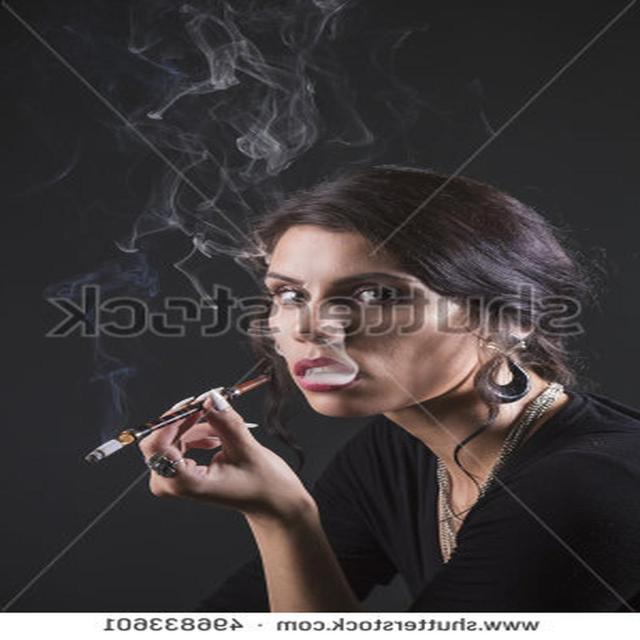smoking: (70, 152, 609, 486)
